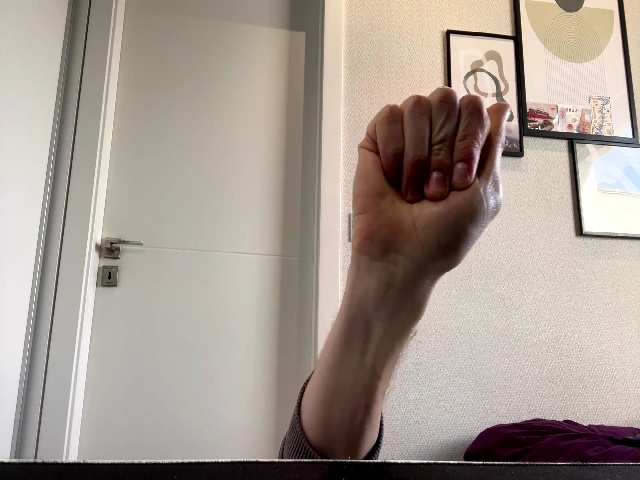A: (351, 87, 511, 269)
